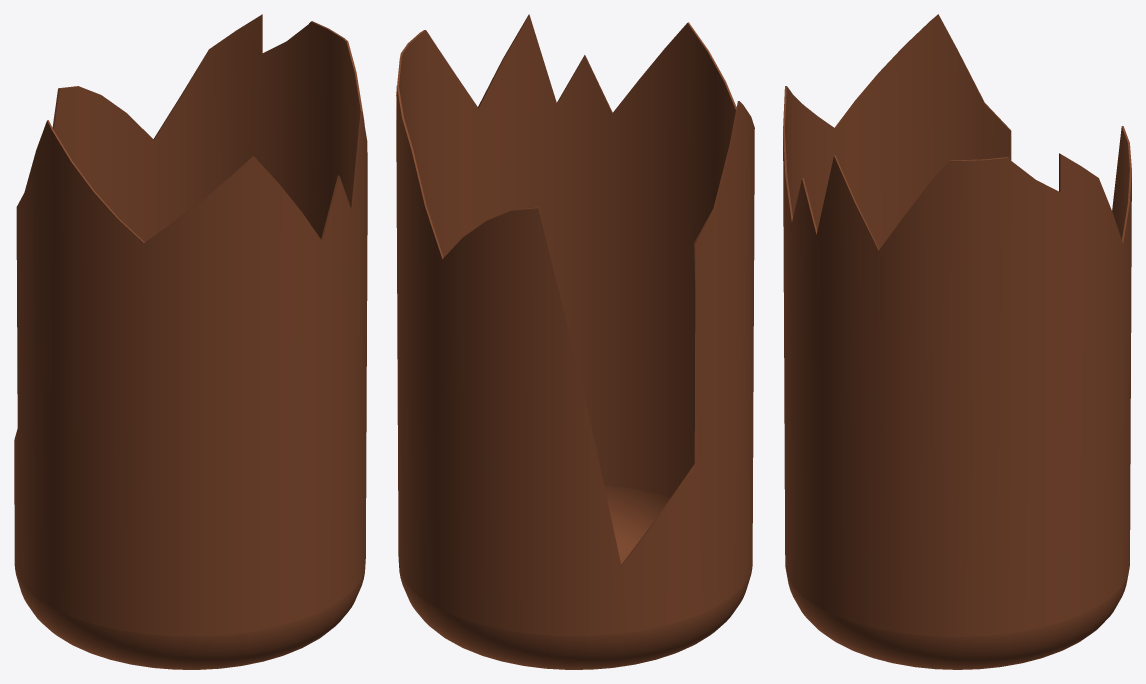
Rendered from Flasche_zerbrochen.fbx.
3 views of the same model, side by side, from view 1: azimuth 30°, elevation 25°; view 2: azimuth 150°, elevation 25°; view 3: azimuth 270°, elevation 25° (orthographic). The views are drawn at different scales.
Parts seen in each view (by area): view 1: Bierfalsche_2; view 2: Bierfalsche_2; view 3: Bierfalsche_2.
Part boxes in pixels (box(x1,y1,x2,y2)): Bierfalsche_2: box(14, 14, 367, 669); Bierfalsche_2: box(396, 14, 754, 669); Bierfalsche_2: box(783, 14, 1131, 669).
Bounding box in the file's own units: 7.19 × 12.03 × 7.18.
